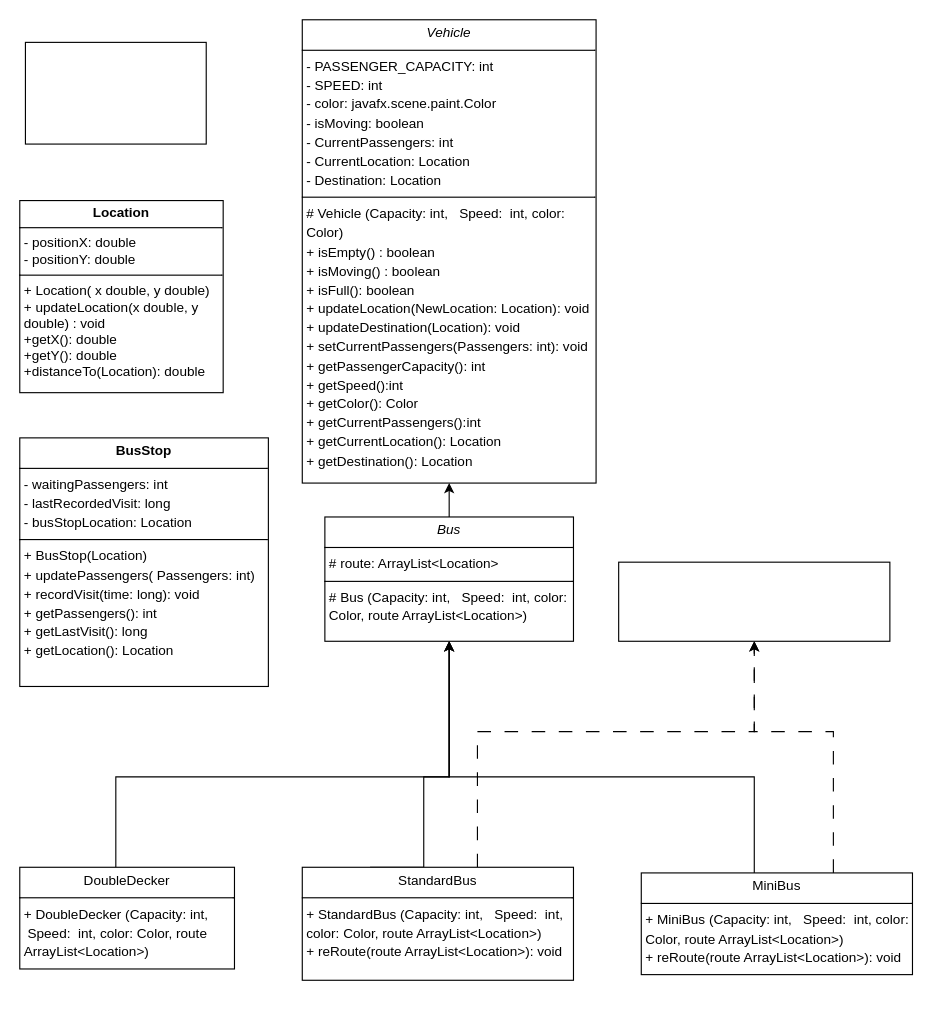
This 932x1009 diagram has some shape labels left out. Here are the shapes that lost their labels. From the top down, the box of each, then its label:
(24, 41, 206, 144): Main + AverageWaitTime: double + NumberOfBuses: int + main(String[]): void
(618, 561, 890, 641): <<Interface>> Reroutable + reRoute (route ArrayList<Location>): void
